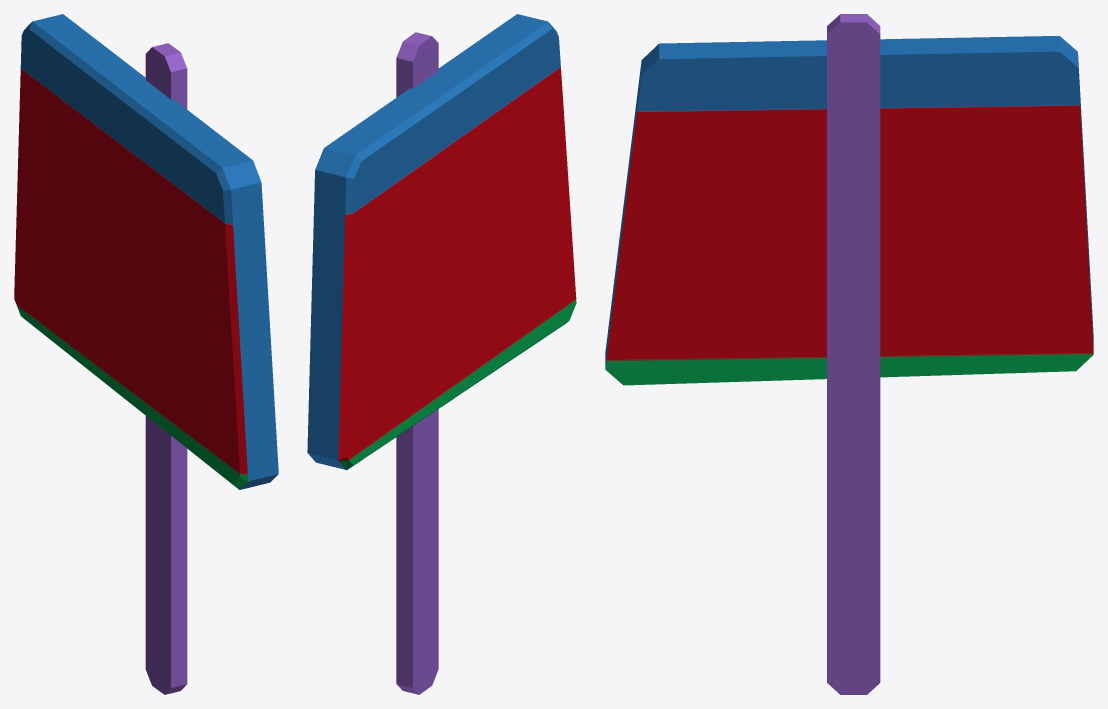
File: PV_Sign.fbx
The picture shows the model from 3 angles, left to right: view 1: azimuth 30°, elevation 25°; view 2: azimuth 150°, elevation 25°; view 3: azimuth 270°, elevation 25°; orthographic projection. The views are drawn at different scales.
Visible parts, largest first — view 1: pCube7; view 2: pCube7; view 3: pCube7.
Part boxes in pixels (left/top/right/bottom): pCube7: left=14, top=14, right=278, bottom=694; pCube7: left=307, top=14, right=576, bottom=694; pCube7: left=605, top=14, right=1093, bottom=694.
Bounding box in the file's own units: 2.08 × 25.64 × 16.88.
